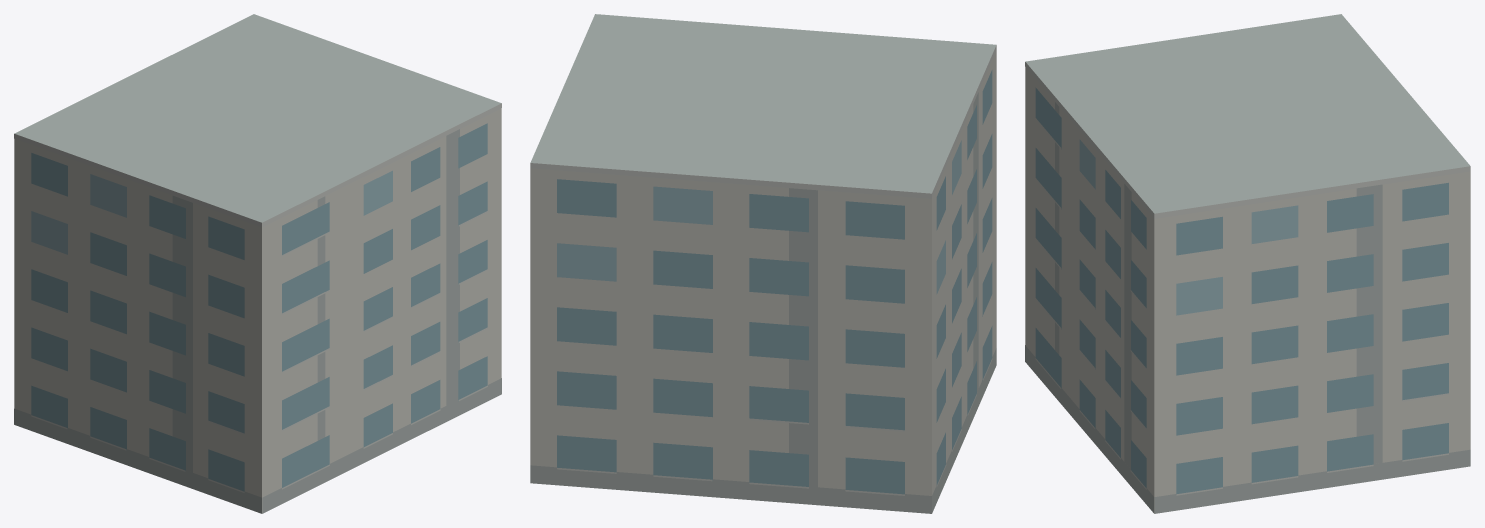
Rendered from survey-upis-32861207.glb.
3 views of the same model, side by side, from view 1: azimuth 30°, elevation 25°; view 2: azimuth 150°, elevation 25°; view 3: azimuth 270°, elevation 25° (orthographic). The views are drawn at different scales.
Visible parts, largest first — view 1: survey-upis-32861207.tmp; view 2: survey-upis-32861207.tmp; view 3: survey-upis-32861207.tmp.
Part boxes in pixels (bbox=[...]): survey-upis-32861207.tmp: bbox=[14, 14, 501, 513]; survey-upis-32861207.tmp: bbox=[530, 14, 996, 513]; survey-upis-32861207.tmp: bbox=[1025, 14, 1470, 513].
Bounding box in the file's own units: 20.55 × 14.4 × 19.38.
